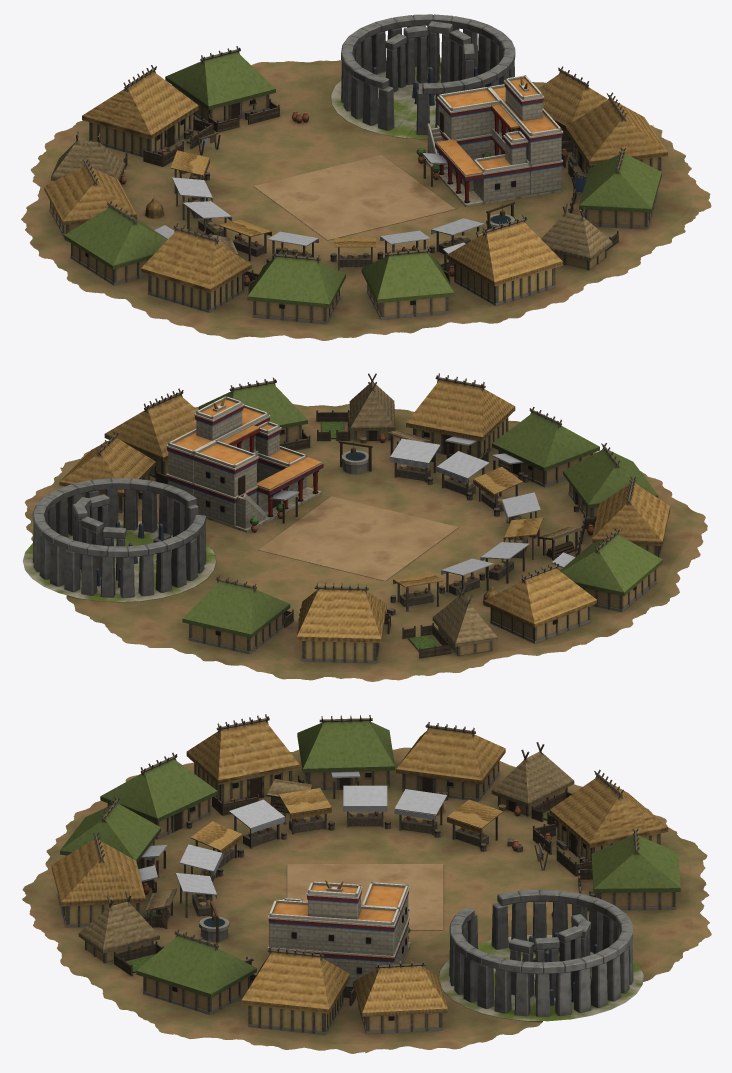
Rendered from bronze-town-medium-a-europe.glb.
3 renders of one model, top to bottom at view 1: azimuth 30°, elevation 25°; view 2: azimuth 150°, elevation 25°; view 3: azimuth 270°, elevation 25°, orthographic. The views are drawn at different scales.
Visible parts, largest first — view 1: LOD0; view 2: LOD0; view 3: LOD0.
Boxes of the visible parts, box(x1,y1,x2,y2) form: LOD0: box(21, 14, 711, 340); LOD0: box(22, 373, 707, 681); LOD0: box(22, 714, 711, 1053).
Size of what is drawn, in the model's own units: 5.92 by 0.8738 by 5.6.
3 materials, 3 textured.
